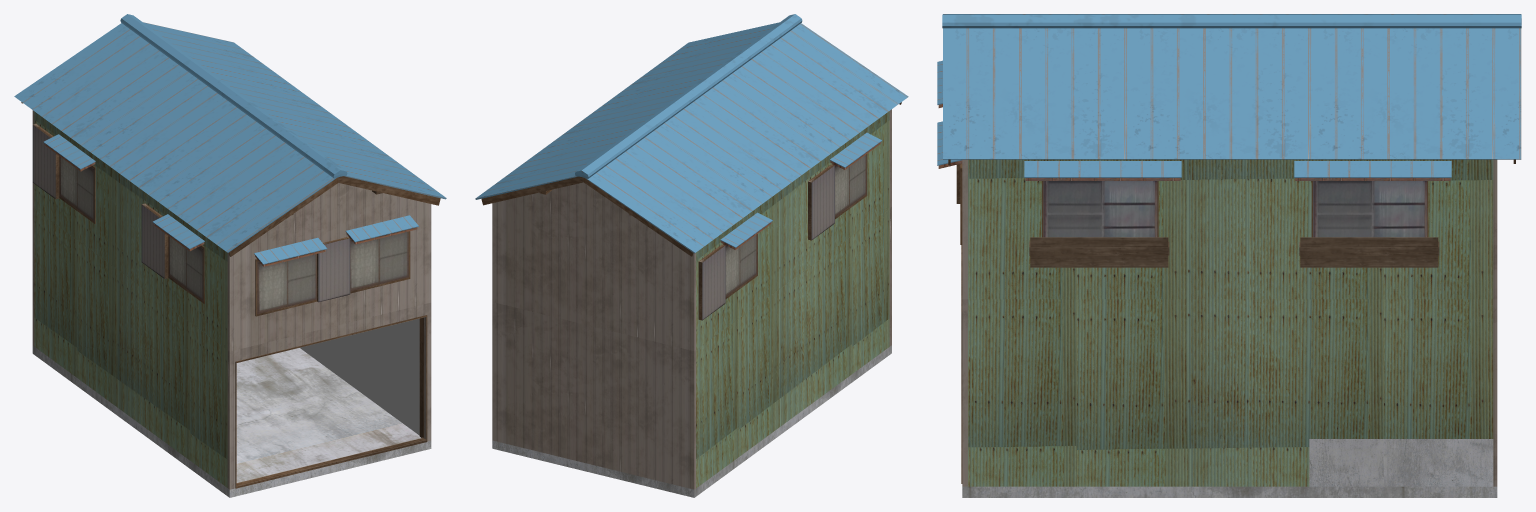
3 renders of one model, left to right at view 1: azimuth 30°, elevation 25°; view 2: azimuth 150°, elevation 25°; view 3: azimuth 270°, elevation 25°, orthographic. The views are drawn at different scales.
Parts seen in each view (by area): view 1: ms_h01_1a; view 2: ms_h01_1a; view 3: ms_h01_1a.
Part boxes in pixels (x1,y1,x2,y2): ms_h01_1a: (14,14,446,497); ms_h01_1a: (475,14,908,497); ms_h01_1a: (937,14,1521,497).
Bounding box in the file's own units: 643 × 813 × 1030.
